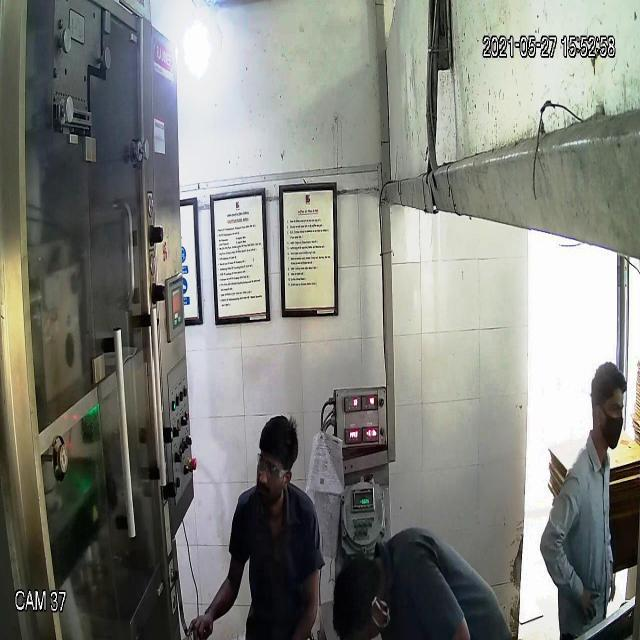glasses: (256, 454, 290, 482)
no-glass: (598, 400, 626, 419)
